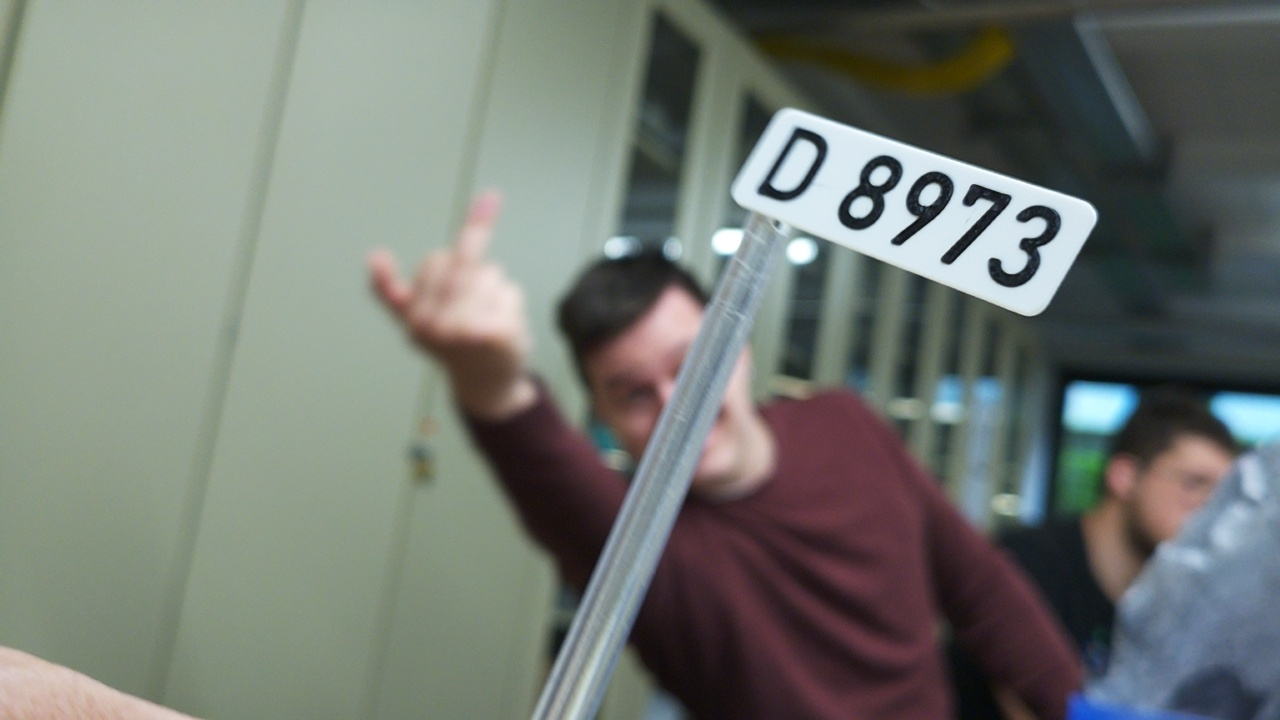license_plate: (728, 103, 1103, 321)
